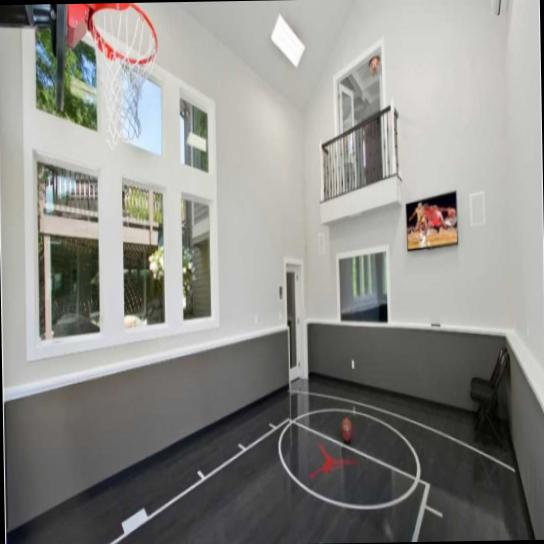basketball-hoop: (87, 2, 162, 147)
